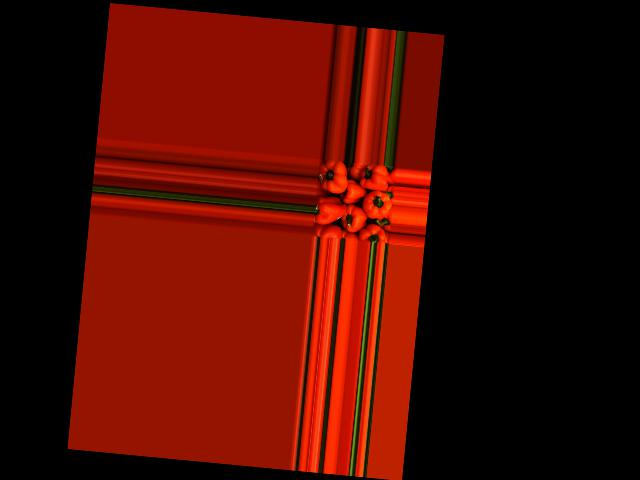bell_pepper: (311, 223, 343, 238)
